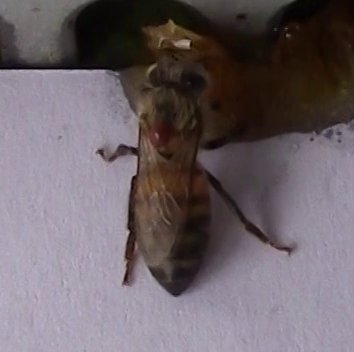Varroa destructor: (148, 117, 177, 151)
